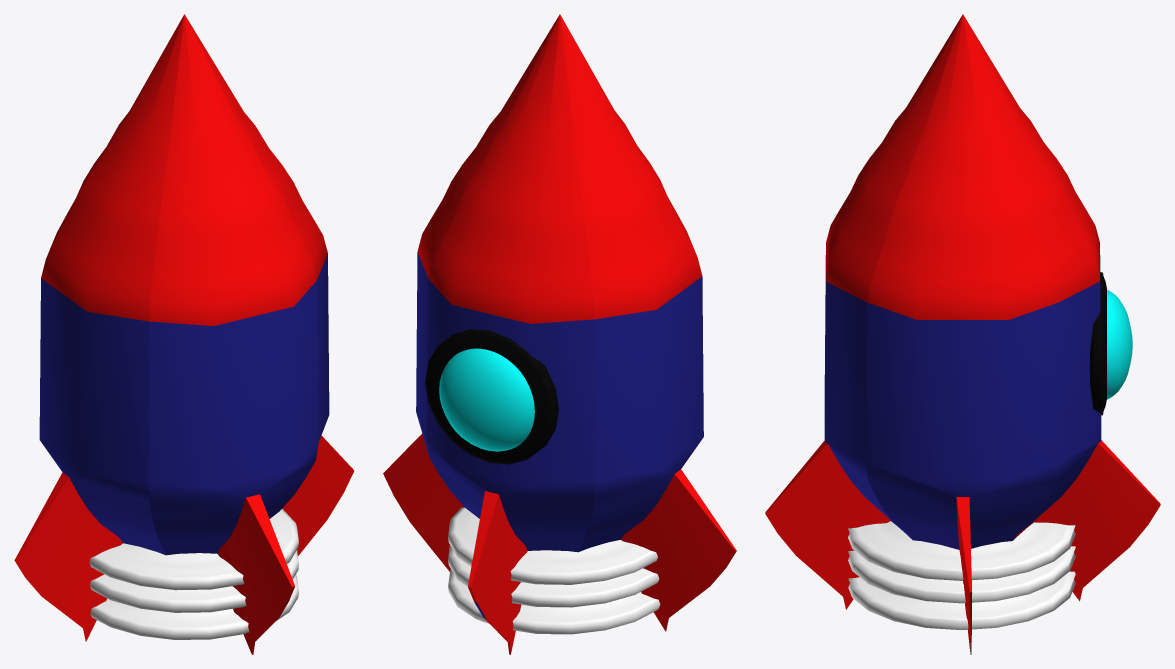
File: Missile.obj
The picture shows the model from 3 angles, left to right: view 1: azimuth 30°, elevation 25°; view 2: azimuth 150°, elevation 25°; view 3: azimuth 270°, elevation 25°; orthographic projection.
Bounding box in the file's own units: 12.32 × 20.34 × 12.32.
